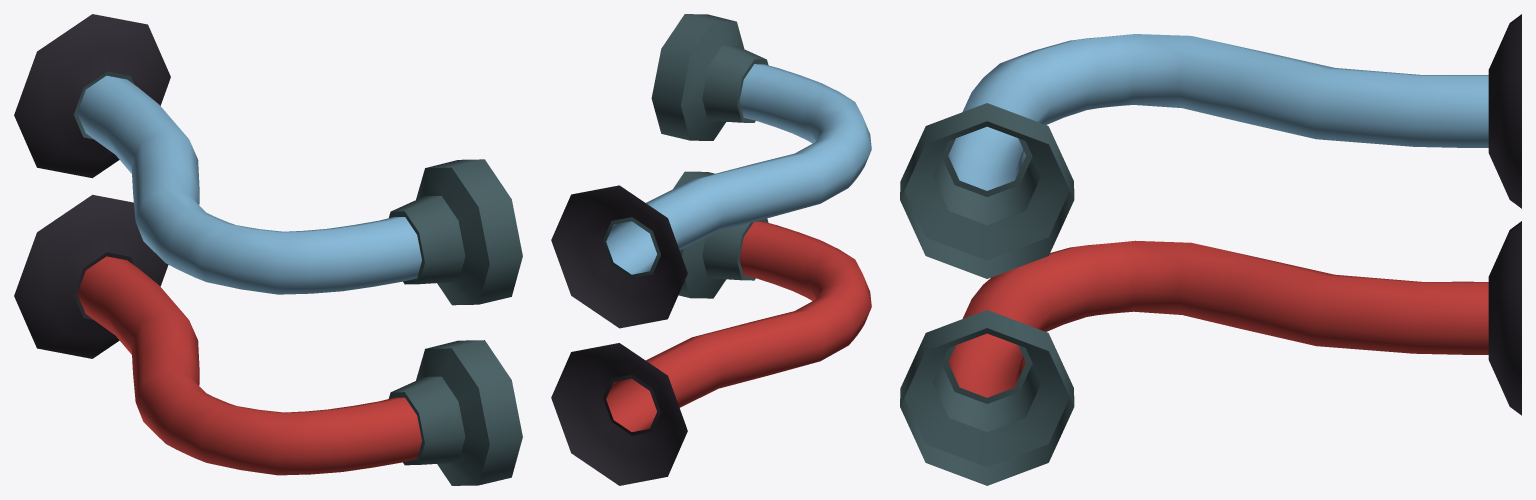
The model's file is 138_cables.glb.
3 renders of one model, left to right at view 1: azimuth 30°, elevation 25°; view 2: azimuth 150°, elevation 25°; view 3: azimuth 270°, elevation 25°, orthographic. The views are drawn at different scales.
Parts seen in each view (by area): view 1: cables; view 2: cables; view 3: cables.
Part boxes in pixels (<box>): cables: <box>14,14,522,485</box>; cables: <box>551,14,871,485</box>; cables: <box>900,14,1521,485</box>.
Bounding box in the file's own units: 0.2967 × 0.375 × 0.5353.
